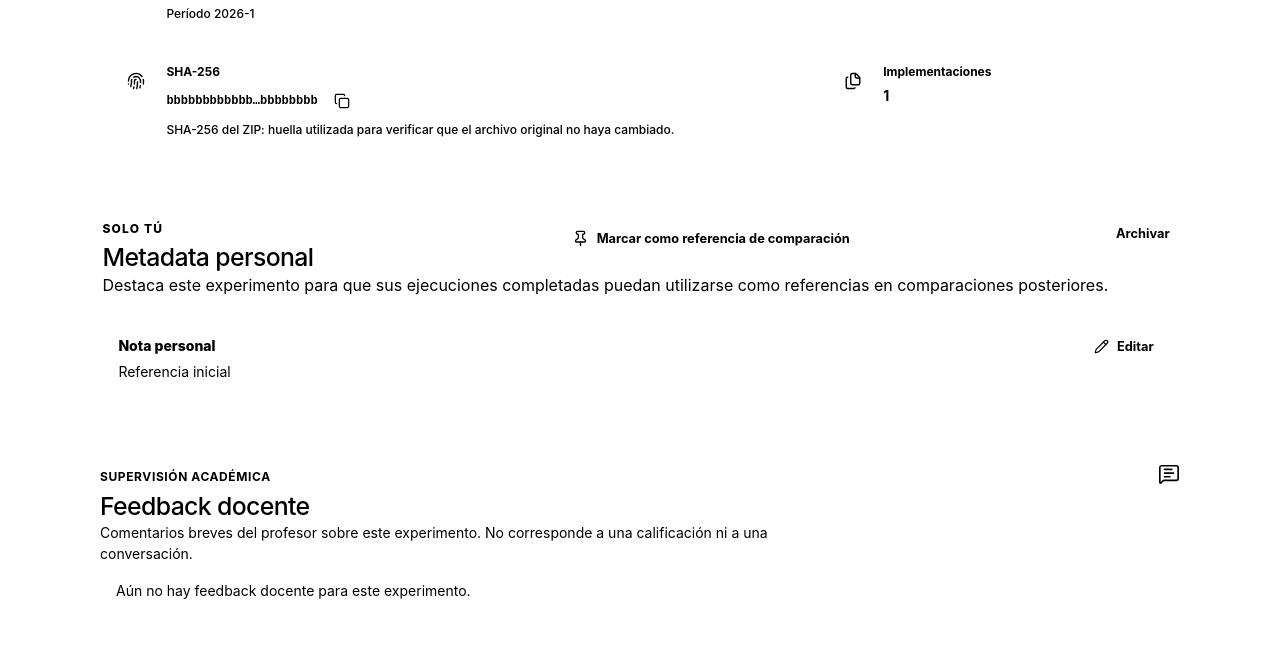
SubmissionOverviewPage › failed note PATCH keeps the prior persisted note intact
(page scrolled)
Click the button "Editar" at (1124, 347), box [1086,333,1162,360]
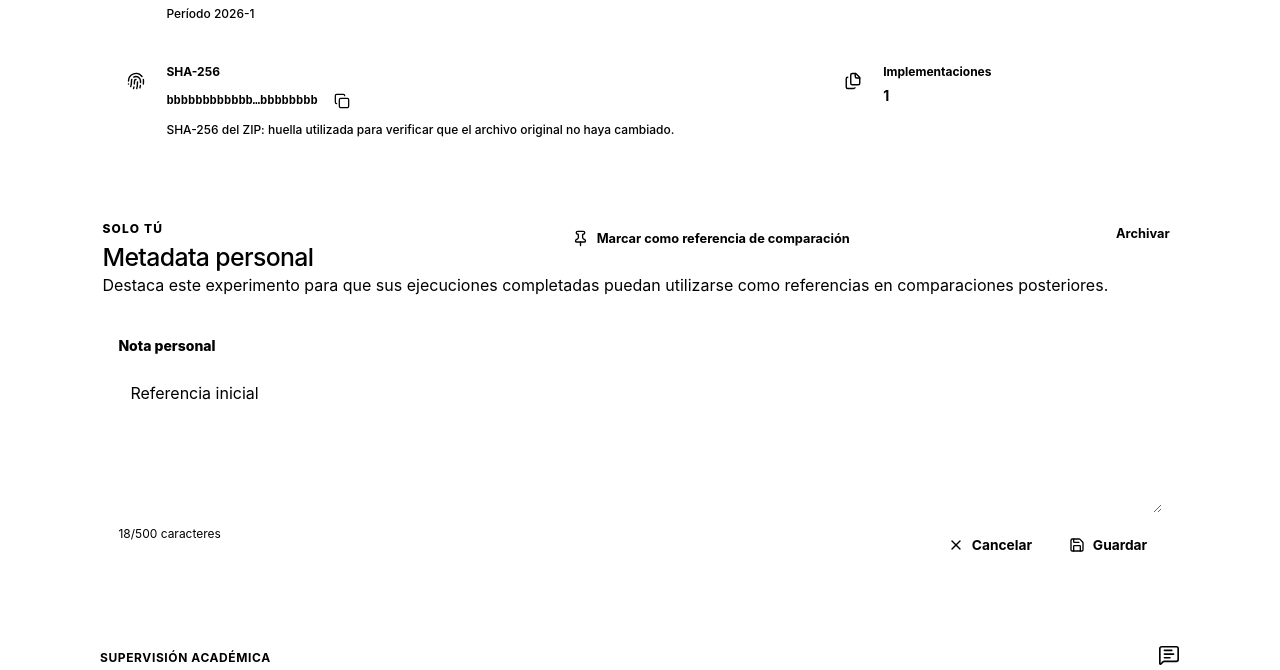
Replace the text in the text box labelled "Nota personal" with "Borrador que falló" at (640, 441), box [118,369,1162,513]
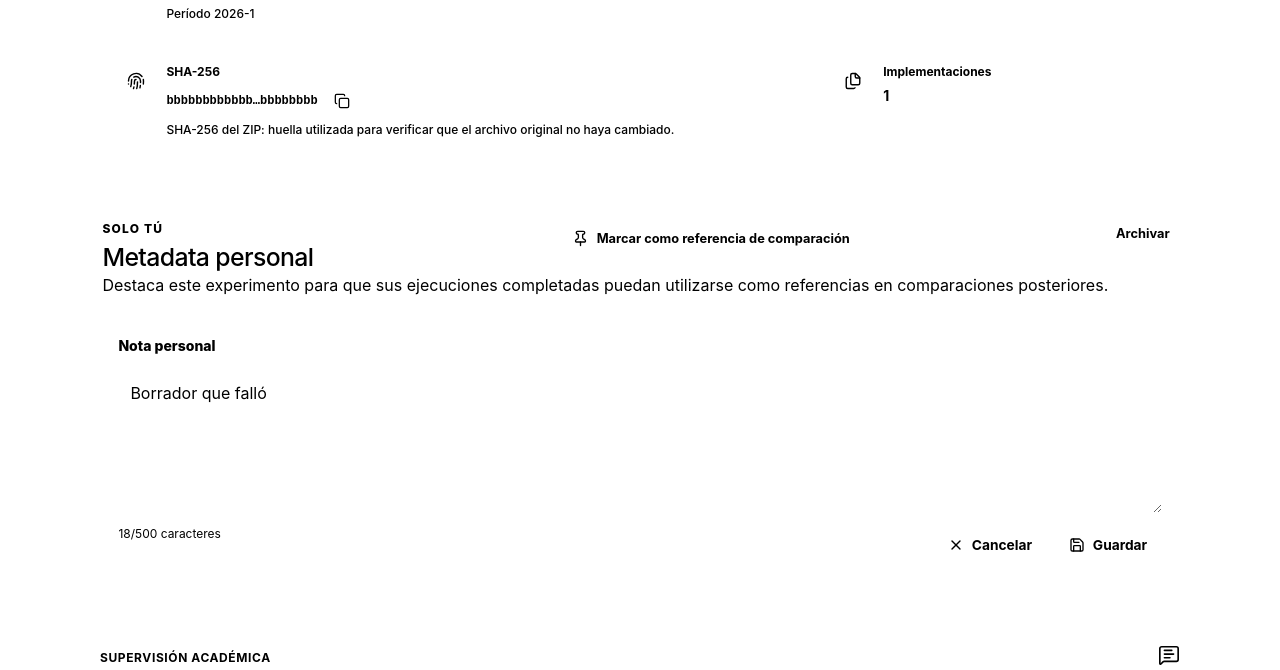
Click the button "Guardar" at (1108, 545), box [1054,525,1162,565]
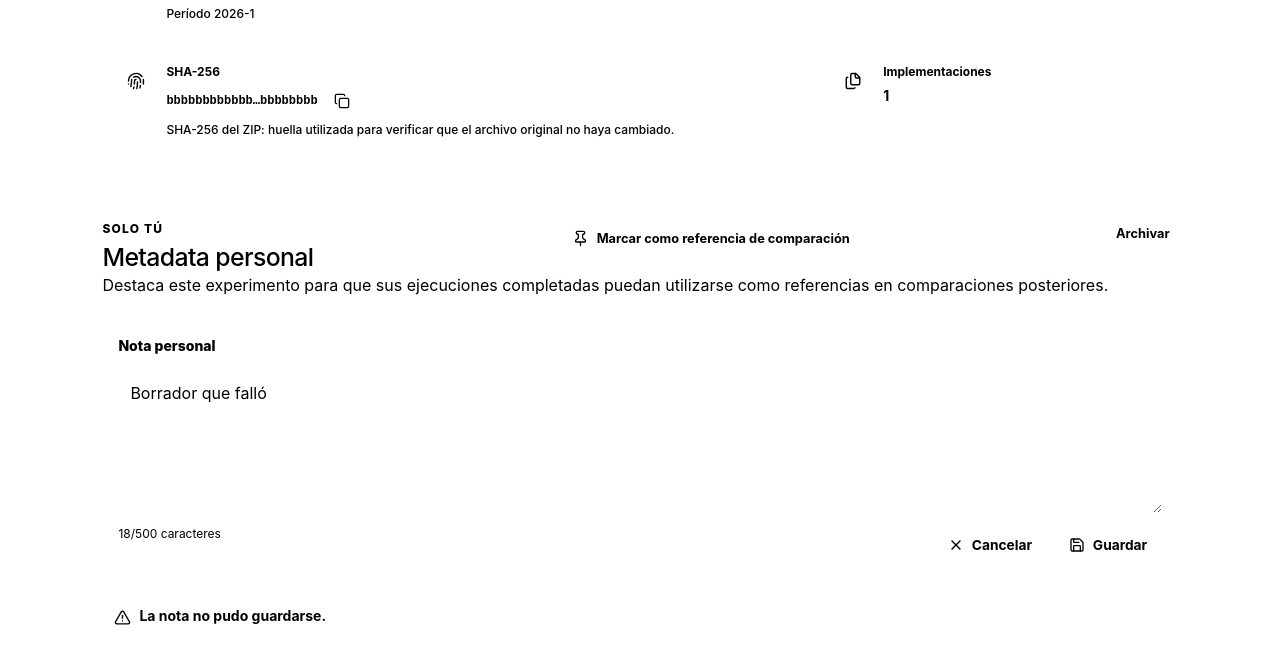
Expected: the message reads "La nota no pudo guardarse.", [139,607,326,624]
Click the button "Cancelar" at (990, 545), box [933,525,1046,565]
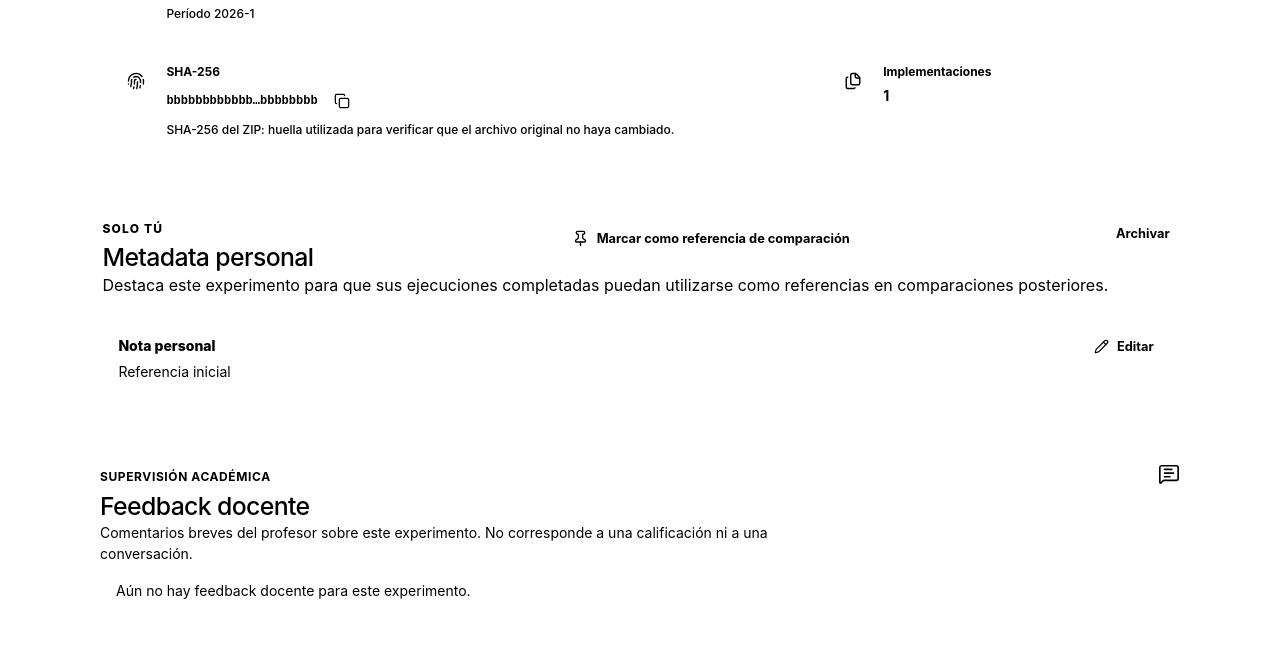
Expected: the text "Borrador que falló" is not shown
Expected: the text "Referencia inicial" is shown, [118,363,231,380]
